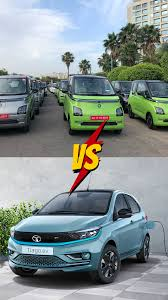Tiago: (6, 187, 149, 284)
